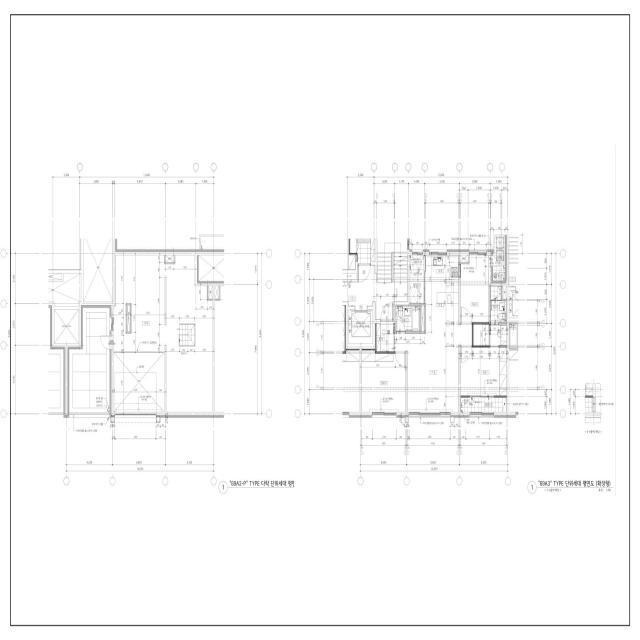space_balconi: (409, 255, 424, 304), (461, 398, 506, 412), (493, 236, 505, 281)
space_bedroom: (461, 325, 506, 388), (362, 350, 405, 412), (461, 255, 489, 322)
space_elevator: (54, 310, 79, 344), (348, 310, 373, 344)
space_elevator_hall: (343, 266, 407, 319)
space_front: (377, 323, 396, 351)
space_kitchen: (426, 255, 458, 325)
space_living_room: (396, 324, 472, 412)
space_other: (474, 324, 489, 345), (343, 273, 356, 280), (127, 305, 130, 332), (421, 305, 424, 332), (165, 255, 174, 262), (460, 255, 468, 262), (208, 286, 212, 299), (503, 286, 507, 299), (215, 286, 219, 299)
space_staircase: (376, 239, 407, 283), (179, 324, 195, 346)
space_toilet: (396, 306, 420, 331), (491, 286, 506, 322)
